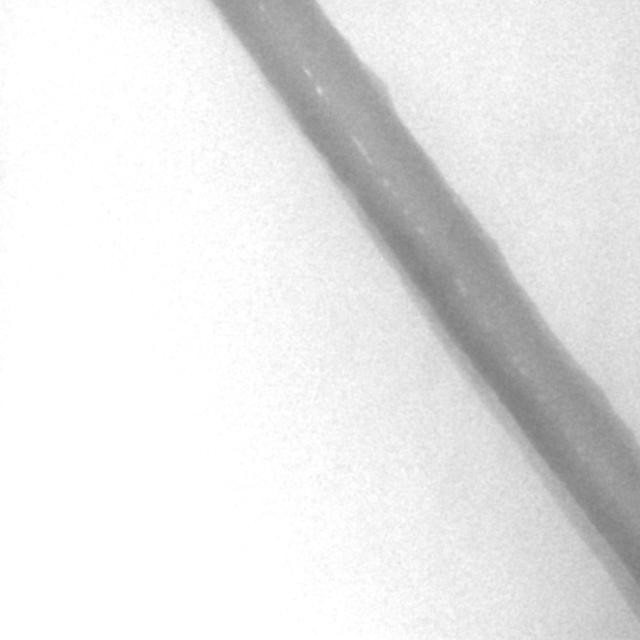air hole: (313, 82, 325, 98), (301, 63, 312, 78)
